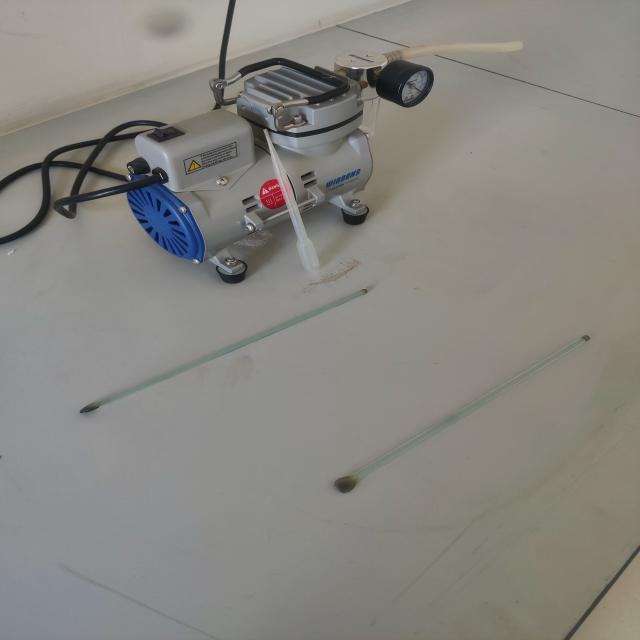Glass_Rod: (308, 312, 628, 510), (67, 281, 418, 428)
Pipette: (239, 112, 347, 294)
